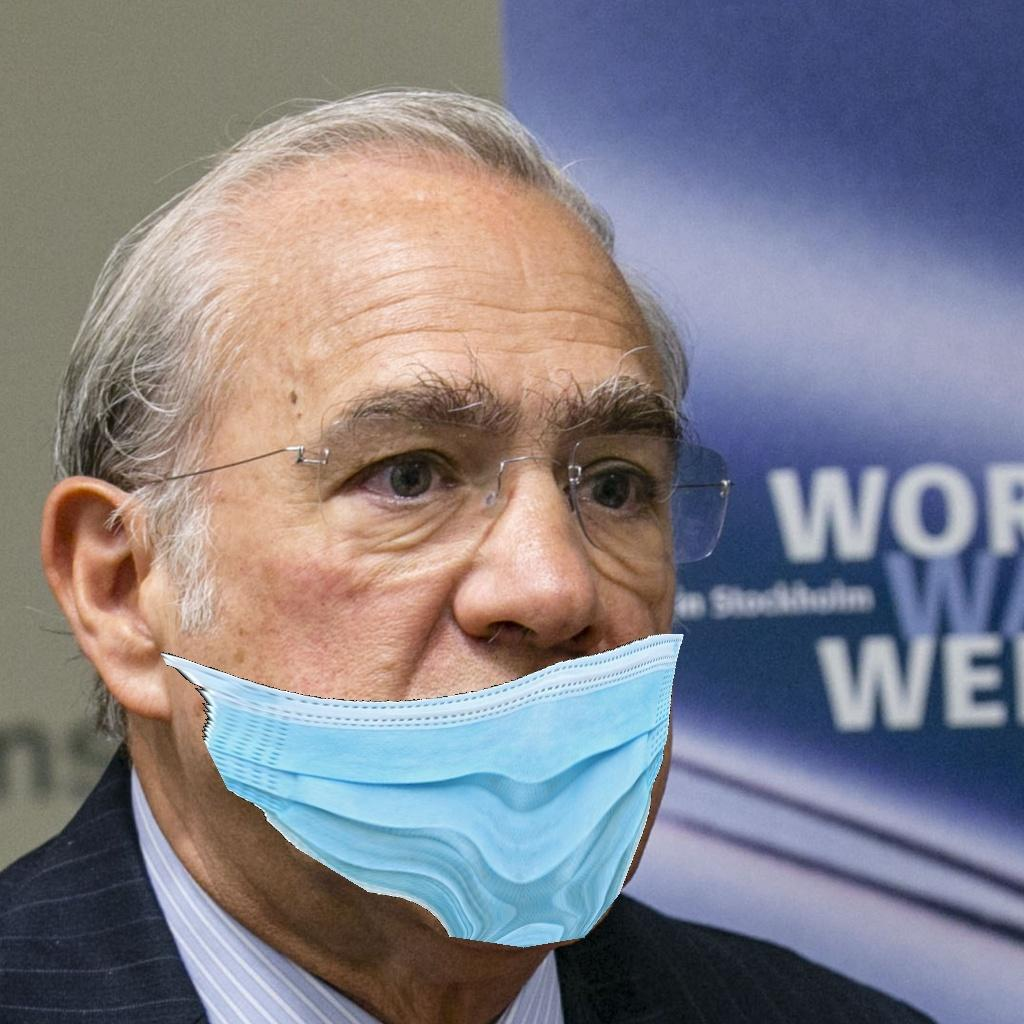Máscara Incorreta: (200, 249, 703, 933)
